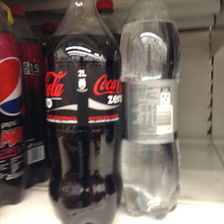soda: (44, 1, 120, 224), (119, 1, 182, 218)
